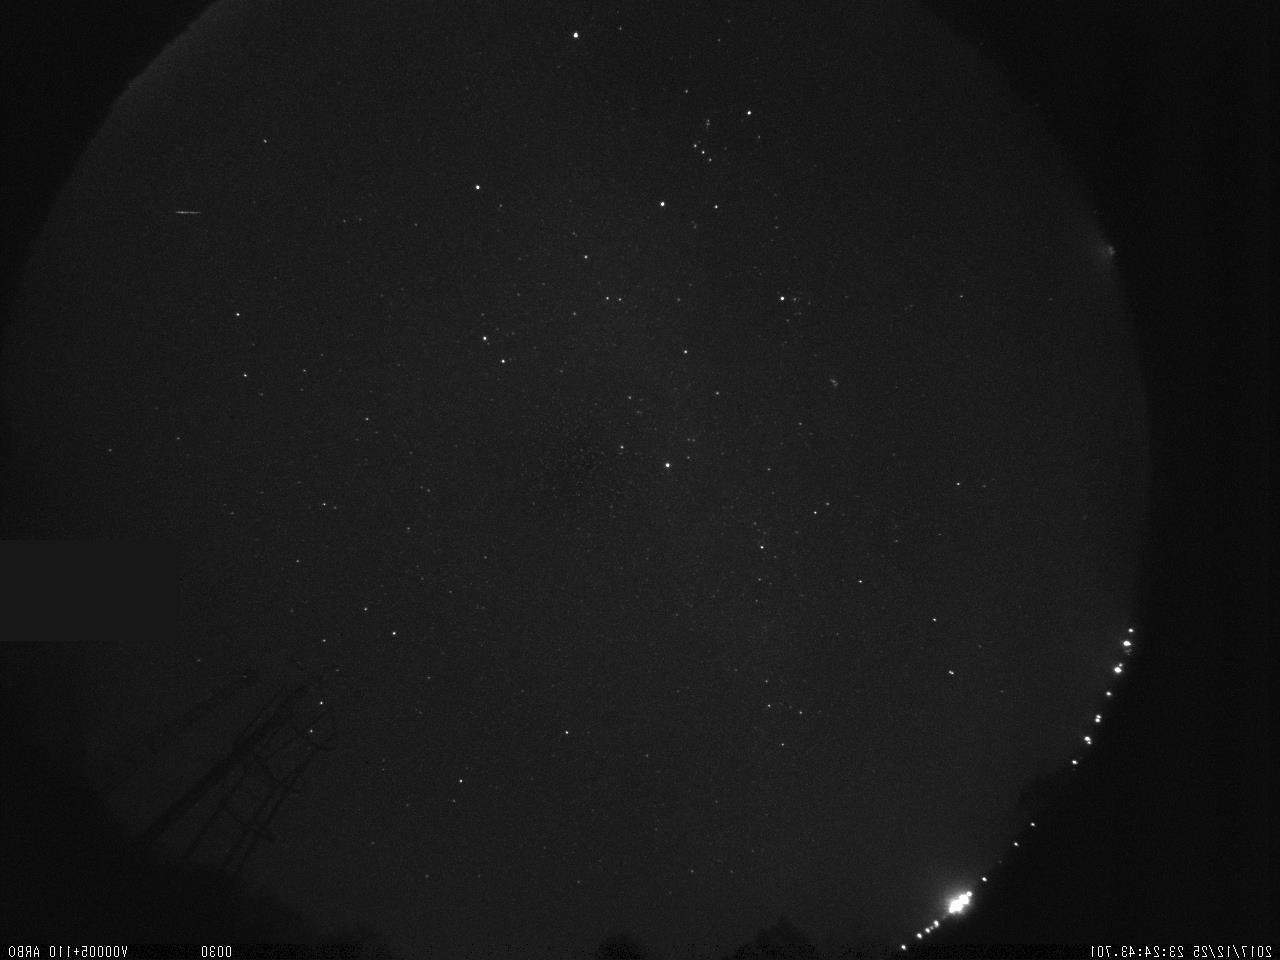meteor: (152, 177, 224, 245)
